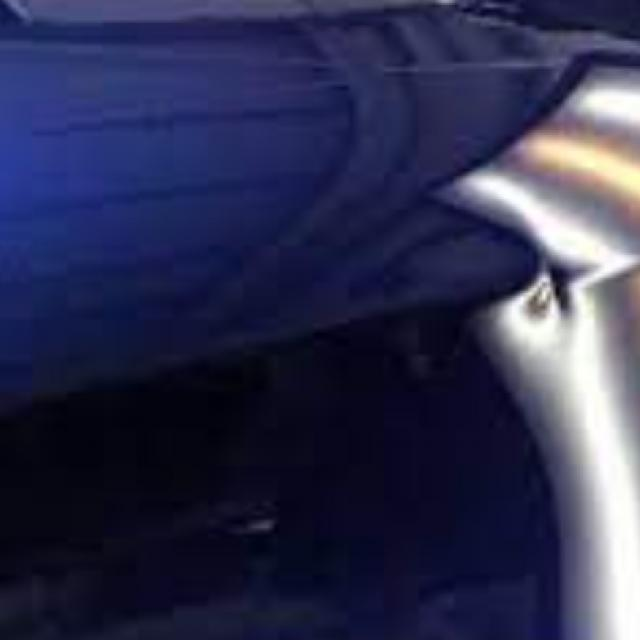dents: (504, 212, 626, 364)
